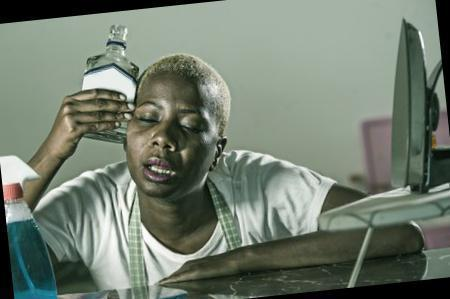Drunk: (128, 89, 211, 191)
